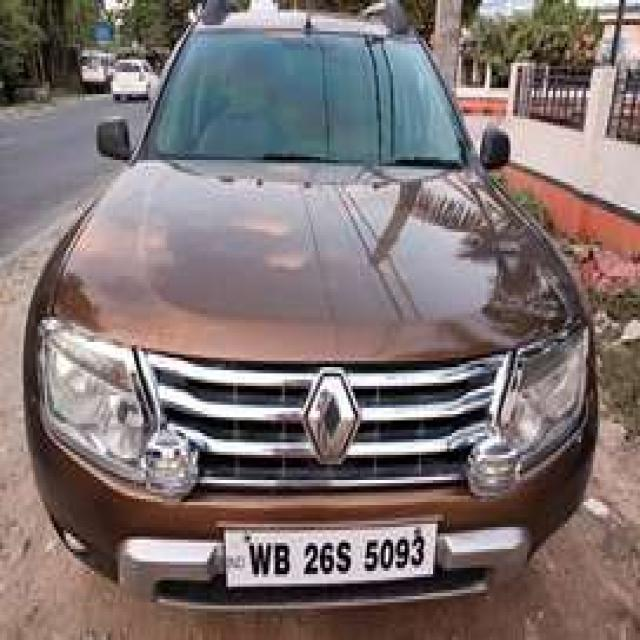Plate: (222, 519, 432, 585)
